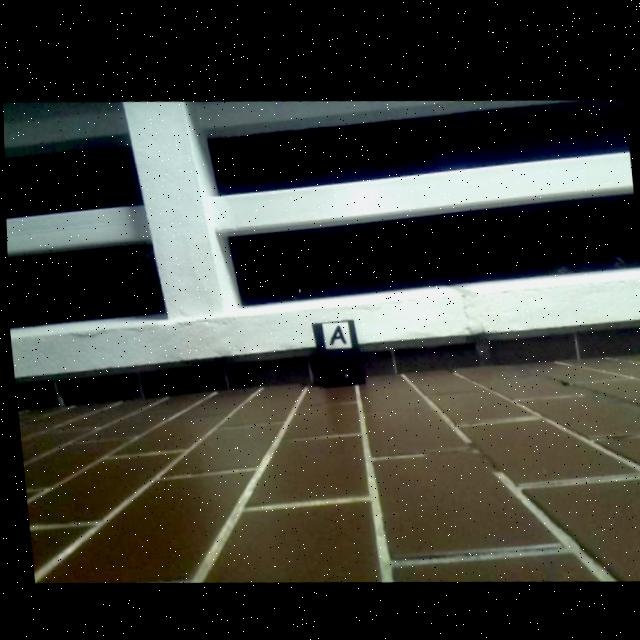A: (327, 320, 345, 341)
